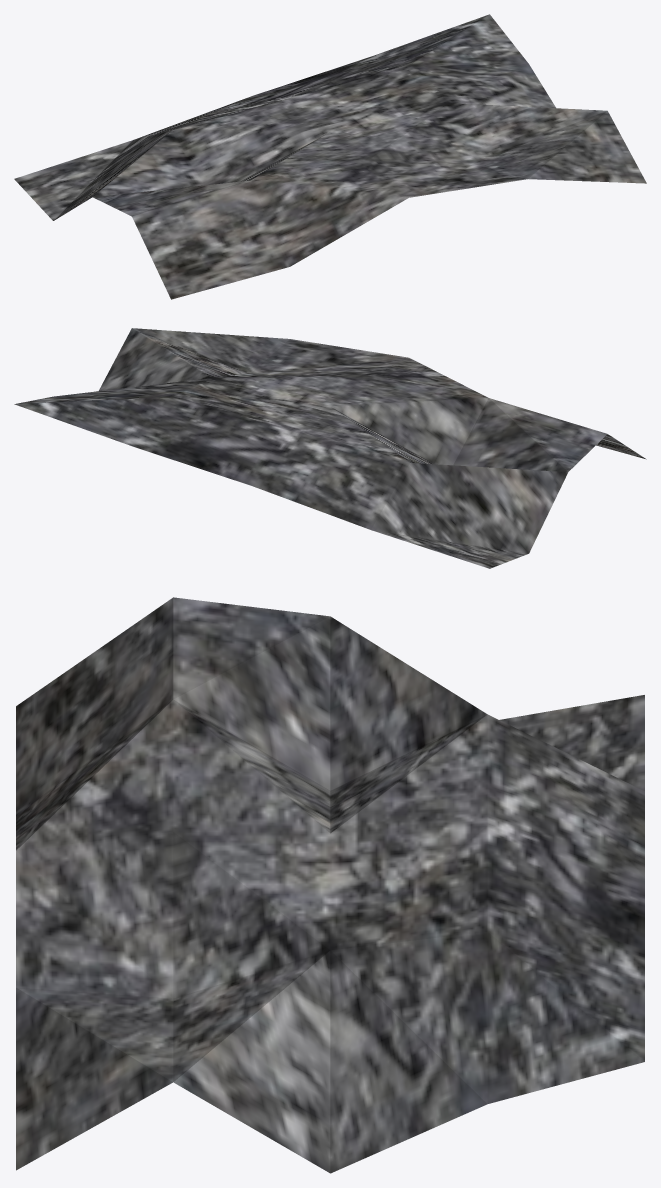
File: garbage.dae
The picture shows the model from 3 angles, top to bottom: view 1: azimuth 30°, elevation 25°; view 2: azimuth 150°, elevation 25°; view 3: azimuth 270°, elevation 25°; orthographic projection. The views are drawn at different scales.
Parts seen in each view (by area): view 1: Plane; view 2: Plane; view 3: Plane.
Part boxes in pixels (<box>): Plane: <box>14,14,646,299</box>; Plane: <box>14,328,646,568</box>; Plane: <box>16,597,644,1173</box>.
Bounding box in the file's own units: 0.2008 × 0.1149 × 0.0279.
1 material, 1 textured.
